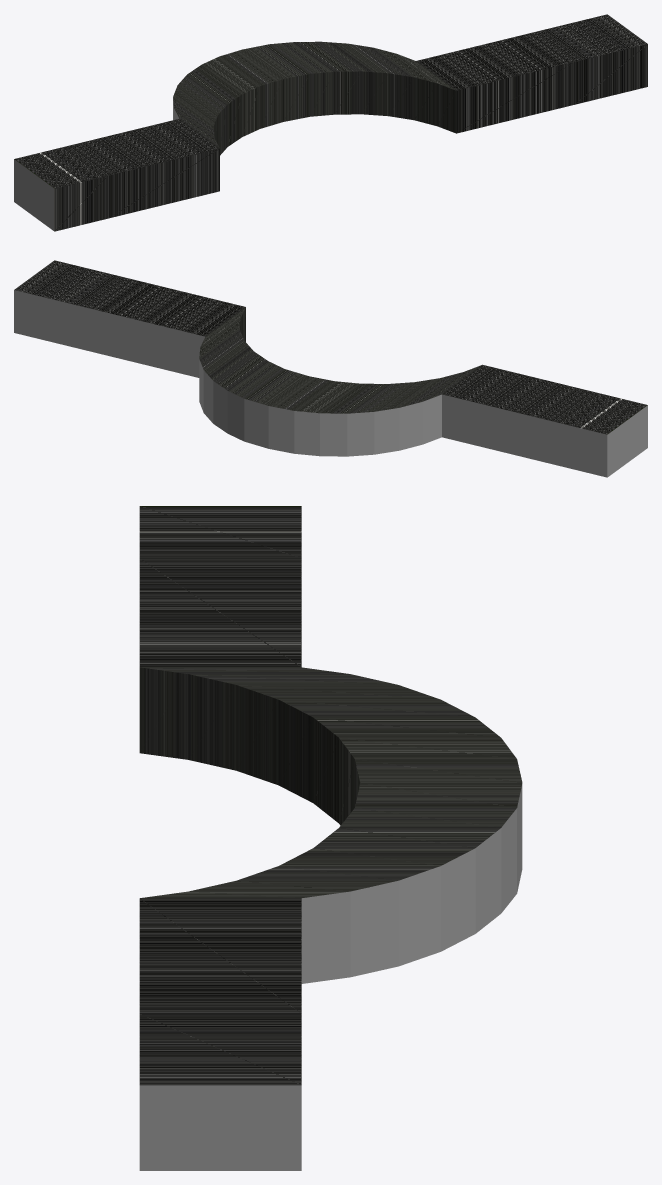
The model's file is someShit2.obj.
The picture shows the model from 3 angles, top to bottom: view 1: azimuth 30°, elevation 25°; view 2: azimuth 150°, elevation 25°; view 3: azimuth 270°, elevation 25°; orthographic projection. The views are drawn at different scales.
Visible parts, largest first — view 1: Plane.001; view 2: Plane.001; view 3: Plane.001.
Part boxes in pixels (bbox=[...]): Plane.001: bbox=[14, 14, 647, 231]; Plane.001: bbox=[14, 260, 647, 477]; Plane.001: bbox=[139, 506, 522, 1170].
Bounding box in the file's own units: 831 × 57.38 × 232.
Materials: 3 (2 with a texture image).
